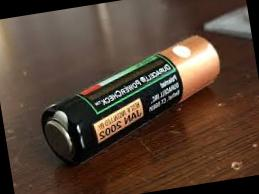battery: (21, 28, 236, 180)
